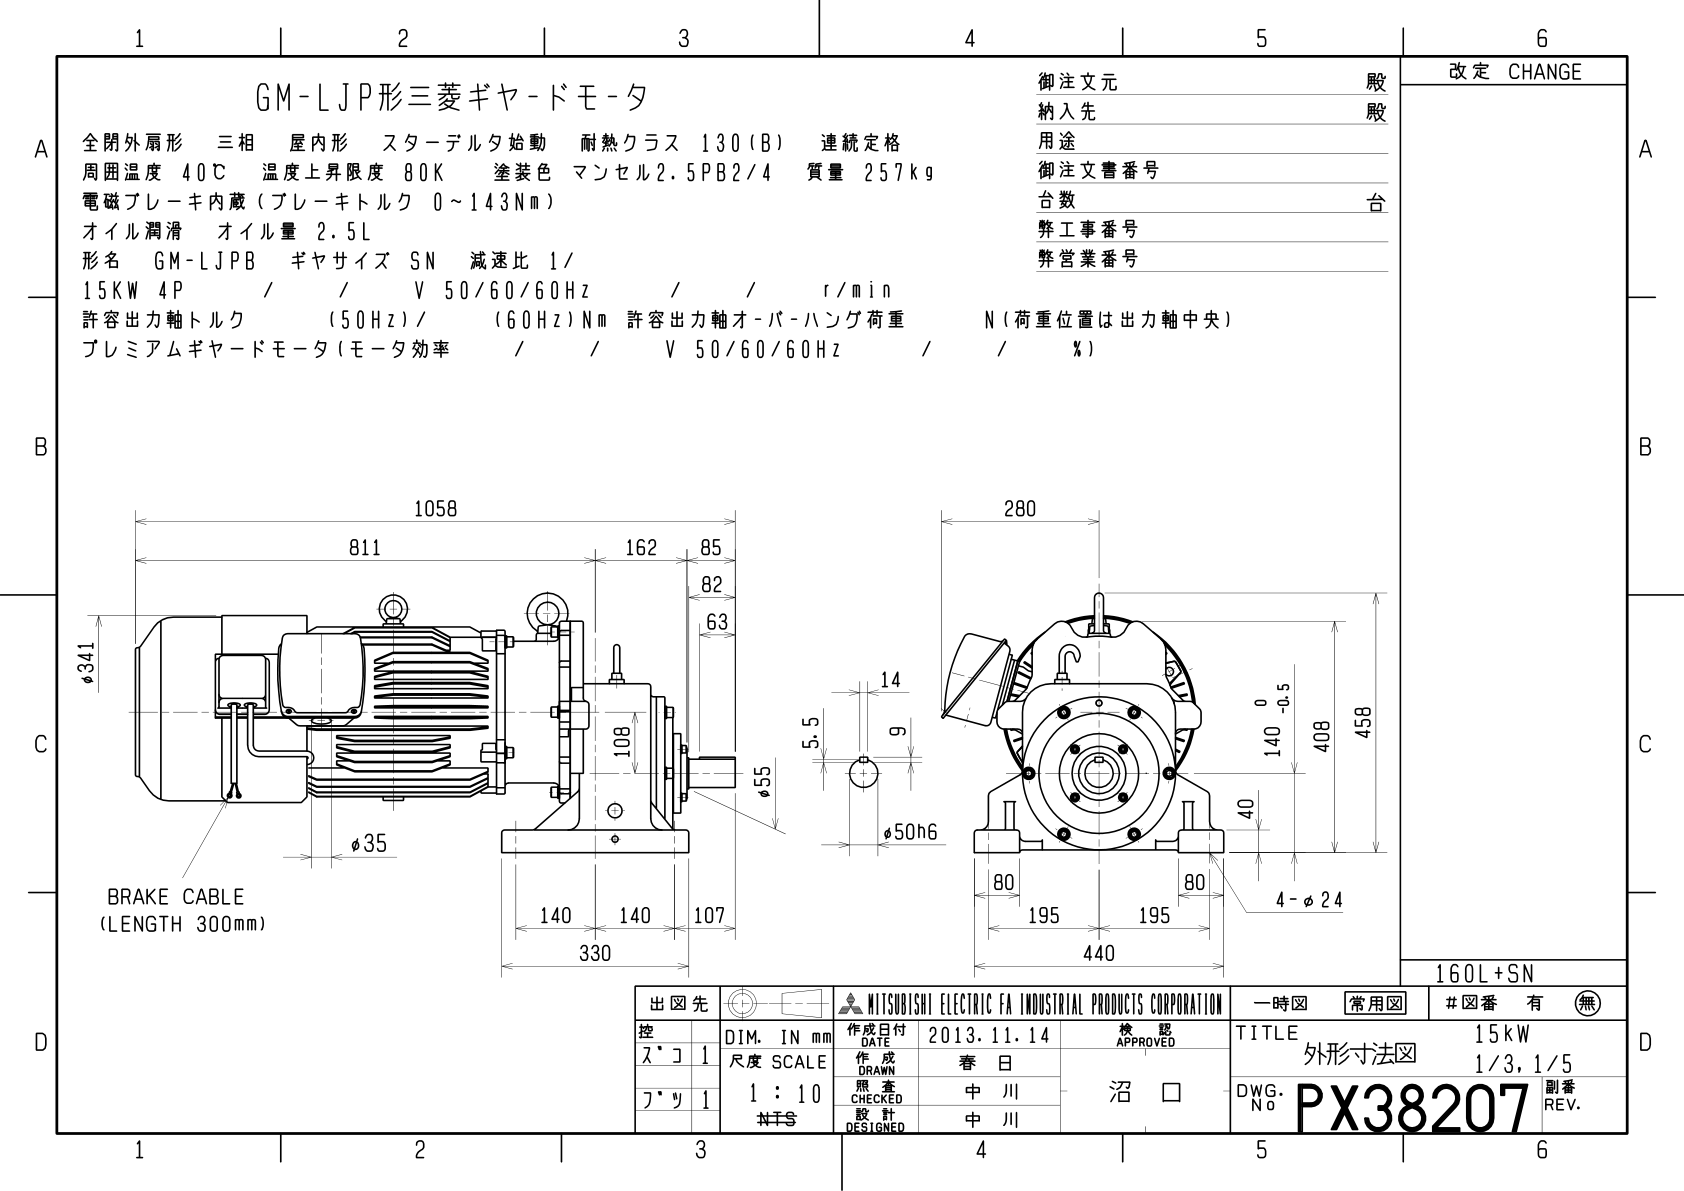GM_LJP_屋内_三相_脚: (9, 6, 1681, 1191)
